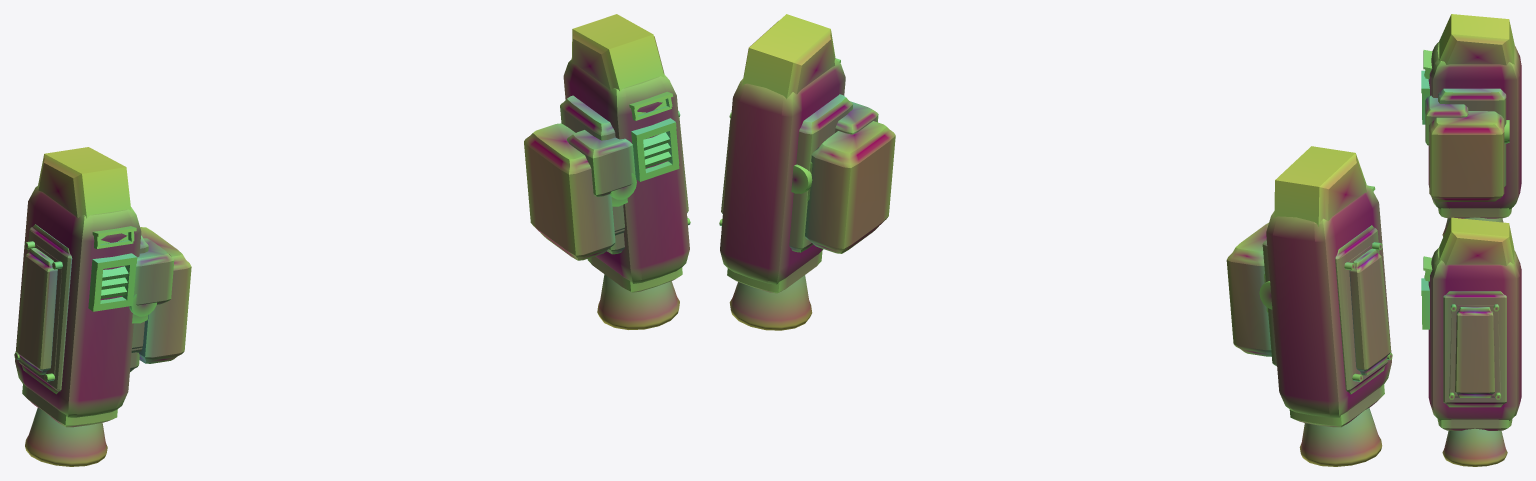
The model's file is llm_gen_leg_thrusters_105_78a150.glb.
3 renders of one model, left to right at view 1: azimuth 30°, elevation 25°; view 2: azimuth 150°, elevation 25°; view 3: azimuth 270°, elevation 25°, orthographic. The views are drawn at different scales.
Visible parts, largest first — view 1: calf_thruster_hull_1_crimson_gloss_l, calf_thruster_hull_1_crimson_gloss_r, adapter_calf_clamp_r, nacelle_upper_cowl_2_gold_r, nacelle_upper_cowl_2_gold_l, nacelle_flank_armor_6_gold_l, adapter_calf_clamp_l, calf_main_bell_8_vernier_bell_vernier_l, calf_main_bell_8_vernier_bell_vernier_r, adapter_leg_knee_mount_dark_9_adapter_dark_r, adapter_sub_flank_frame_dark_5_adapter_dark_l, adapter_leg_knee_mount_dark_9_adapter_dark_l (+7 smaller); view 2: calf_thruster_hull_1_crimson_gloss_l, calf_thruster_hull_1_crimson_gloss_r, adapter_calf_clamp_r, nacelle_upper_cowl_2_gold_r, nacelle_upper_cowl_2_gold_l, nacelle_flank_armor_6_gold_l, adapter_calf_clamp_l, calf_main_bell_8_vernier_bell_vernier_l, calf_main_bell_8_vernier_bell_vernier_r, adapter_sub_tank_cradle_dark_0_adapter_dark_r, adapter_sub_flank_frame_dark_5_adapter_dark_l, adapter_sub_nozzle_shroud_dark_7_adapter_dark_l (+2 smaller); view 3: calf_thruster_hull_1_crimson_gloss_r, adapter_calf_clamp_l, calf_thruster_hull_1_crimson_gloss_l, nacelle_flank_armor_6_gold_r, nacelle_upper_cowl_2_gold_l, nacelle_upper_cowl_2_gold_r, adapter_sub_flank_frame_dark_5_adapter_dark_r, calf_main_bell_8_vernier_bell_vernier_r, adapter_sub_tank_cradle_dark_0_adapter_dark_l, adapter_leg_knee_mount_dark_9_adapter_dark_l, adapter_sub_nozzle_shroud_dark_7_adapter_dark_r, adapter_sub_nozzle_shroud_dark_7_adapter_dark_l (+5 smaller).
Part boxes in pixels (x1,y1,x2,y2): calf_thruster_hull_1_crimson_gloss_l: (15,185,141,417); calf_thruster_hull_1_crimson_gloss_r: (563,58,689,283); adapter_calf_clamp_r: (524,123,627,260); nacelle_upper_cowl_2_gold_r: (571,14,664,91); nacelle_upper_cowl_2_gold_l: (38,147,131,218); nacelle_flank_armor_6_gold_l: (14,241,62,381); adapter_calf_clamp_l: (131,227,191,363); calf_main_bell_8_vernier_bell_vernier_l: (25,407,107,466); calf_main_bell_8_vernier_bell_vernier_r: (597,274,679,329); adapter_leg_knee_mount_dark_9_adapter_dark_r: (567,130,635,196); adapter_sub_flank_frame_dark_5_adapter_dark_l: (18,224,72,394); adapter_leg_knee_mount_dark_9_adapter_dark_l: (133,238,174,305); calf_thruster_hull_1_crimson_gloss_l: (1266,184,1391,417); calf_thruster_hull_1_crimson_gloss_r: (720,59,845,284); adapter_calf_clamp_r: (805,121,895,253); nacelle_upper_cowl_2_gold_r: (742,14,835,99); nacelle_upper_cowl_2_gold_l: (1274,146,1366,226); nacelle_flank_armor_6_gold_l: (1344,242,1392,381); adapter_calf_clamp_l: (1226,222,1271,356); calf_main_bell_8_vernier_bell_vernier_l: (1299,408,1382,466); calf_main_bell_8_vernier_bell_vernier_r: (729,275,812,330); adapter_sub_tank_cradle_dark_0_adapter_dark_r: (789,94,852,252); adapter_sub_flank_frame_dark_5_adapter_dark_l: (1335,225,1388,394); adapter_sub_nozzle_shroud_dark_7_adapter_dark_l: (1289,384,1384,427); calf_thruster_hull_1_crimson_gloss_r: (1428,247,1521,420); adapter_calf_clamp_l: (1429,111,1504,201); calf_thruster_hull_1_crimson_gloss_l: (1428,42,1521,209); nacelle_flank_armor_6_gold_r: (1449,304,1501,399); nacelle_upper_cowl_2_gold_l: (1439,14,1514,65); nacelle_upper_cowl_2_gold_r: (1438,217,1514,265); adapter_sub_flank_frame_dark_5_adapter_dark_r: (1443,291,1506,407); calf_main_bell_8_vernier_bell_vernier_r: (1442,428,1507,466); adapter_sub_tank_cradle_dark_0_adapter_dark_l: (1438,88,1506,186); adapter_leg_knee_mount_dark_9_adapter_dark_l: (1425,95,1468,145); adapter_sub_nozzle_shroud_dark_7_adapter_dark_r: (1437,419,1512,430); adapter_sub_nozzle_shroud_dark_7_adapter_dark_l: (1438,208,1511,218).
Bounding box in the file's own units: 85.78 × 36.81 × 14.73.
